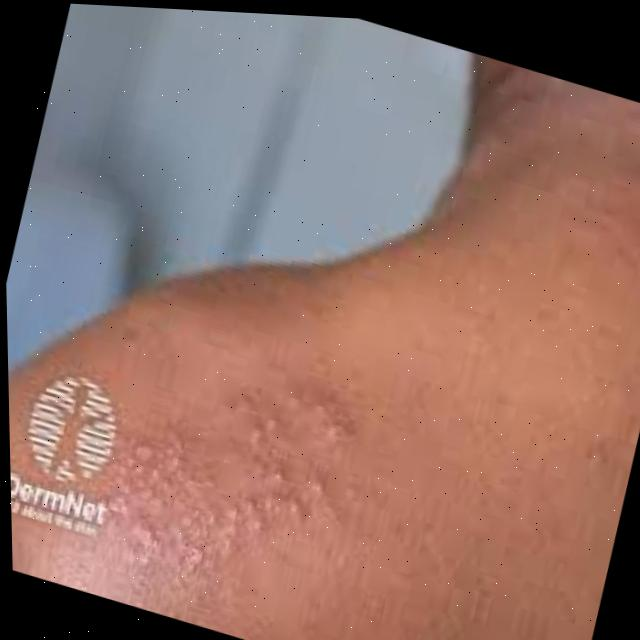Eczema: (89, 321, 326, 556), (490, 64, 640, 231)
